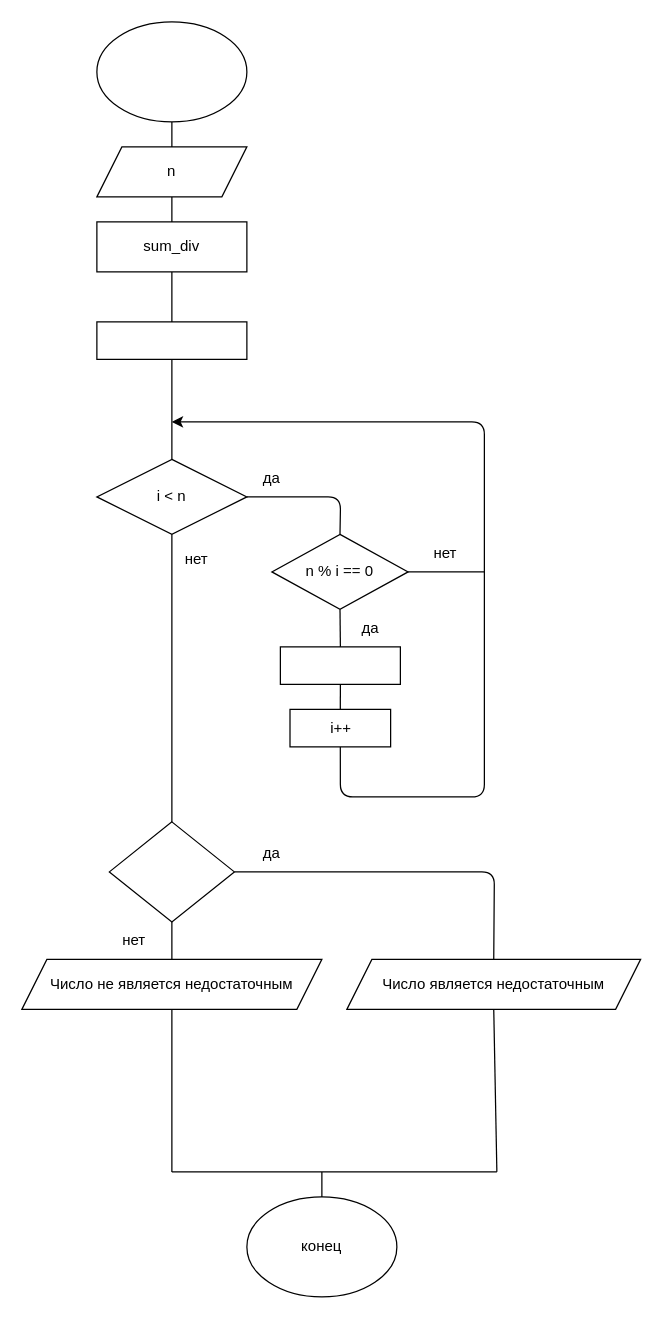
This 663x1319 diagram has some shape labels left out. The centre of each missing label's shape, as x and y in pixels:
int i = 0: the point at 171,340
n > sum_div: the point at 171,871
sum_div += i: the point at 339,665
начало: the point at 171,71
